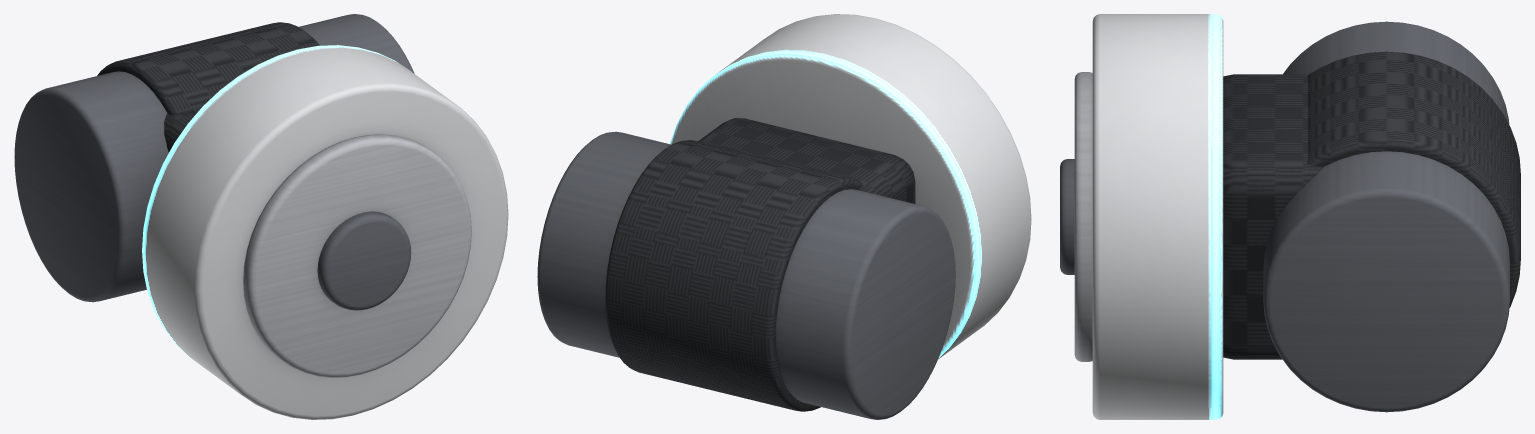
File: right_hip_roll.glb
The picture shows the model from 3 angles, left to right: view 1: azimuth 30°, elevation 25°; view 2: azimuth 150°, elevation 25°; view 3: azimuth 270°, elevation 25°; orthographic projection. The views are drawn at different scales.
Parts seen in each view (by area): view 1: right_hip_roll; view 2: right_hip_roll; view 3: right_hip_roll.
Part boxes in pixels (bbox=[...]): right_hip_roll: bbox=[14, 14, 508, 419]; right_hip_roll: bbox=[537, 14, 1031, 419]; right_hip_roll: bbox=[1060, 14, 1520, 419].
Size of the model in its own units: 0.112 by 0.112 by 0.127.
1 material, 1 textured.
